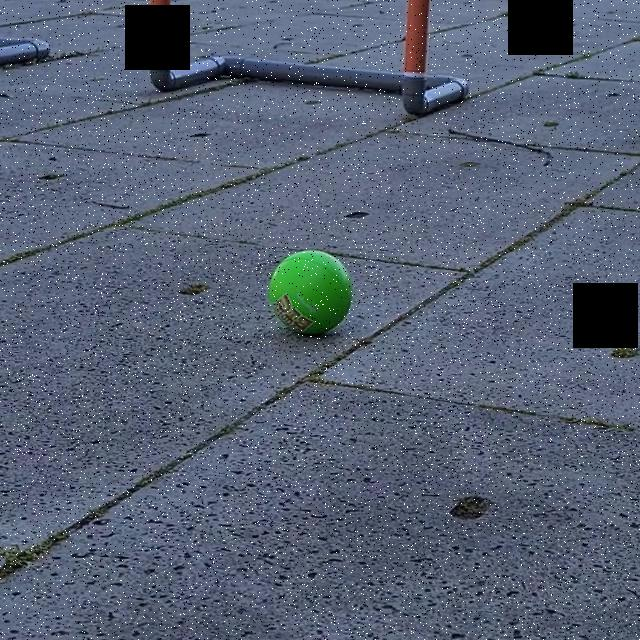ball: (268, 247, 356, 339)
